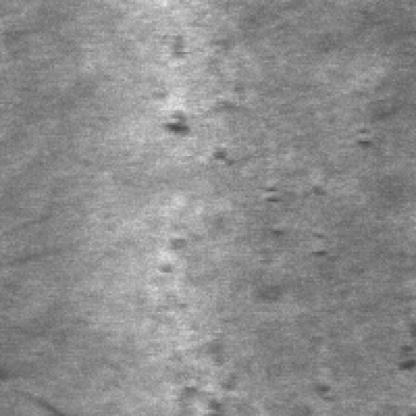rolled-in_scale: (252, 129, 368, 270), (158, 16, 250, 121)
